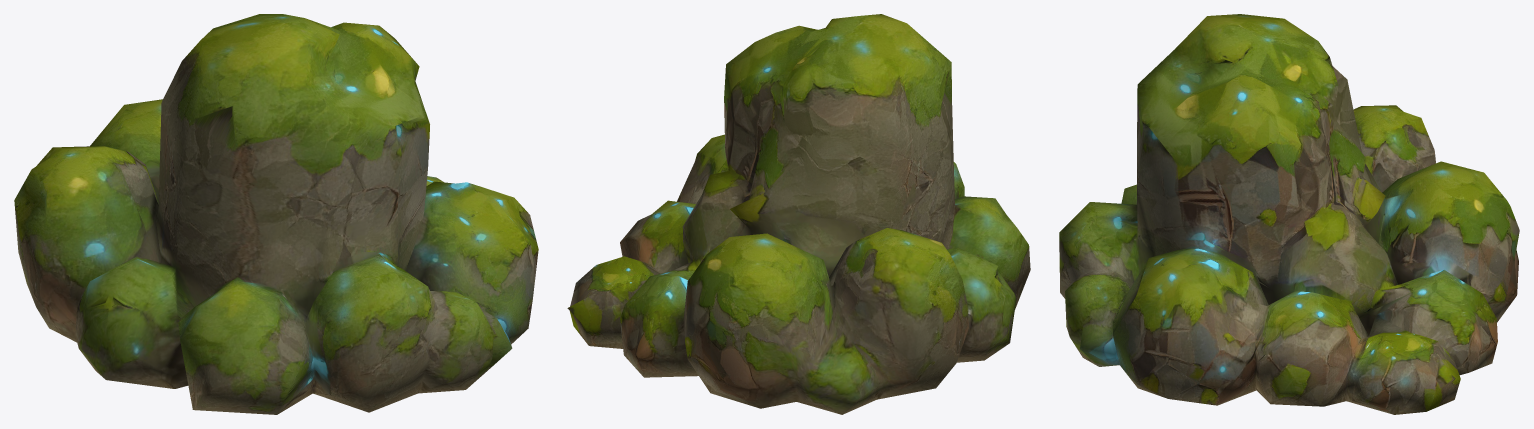
File: Rock 1.fbx
The picture shows the model from 3 angles, left to right: view 1: azimuth 30°, elevation 25°; view 2: azimuth 150°, elevation 25°; view 3: azimuth 270°, elevation 25°; orthographic projection. The views are drawn at different scales.
Parts seen in each view (by area): view 1: tripo_node_a60d533a; view 2: tripo_node_a60d533a; view 3: tripo_node_a60d533a.
Boxes of the visible parts, x1,y1,x2,y2 form: tripo_node_a60d533a: (14, 14, 538, 414); tripo_node_a60d533a: (567, 14, 1030, 414); tripo_node_a60d533a: (1059, 14, 1519, 414).
Size of the model in its own units: 0.8821 by 0.6708 by 0.9494.
